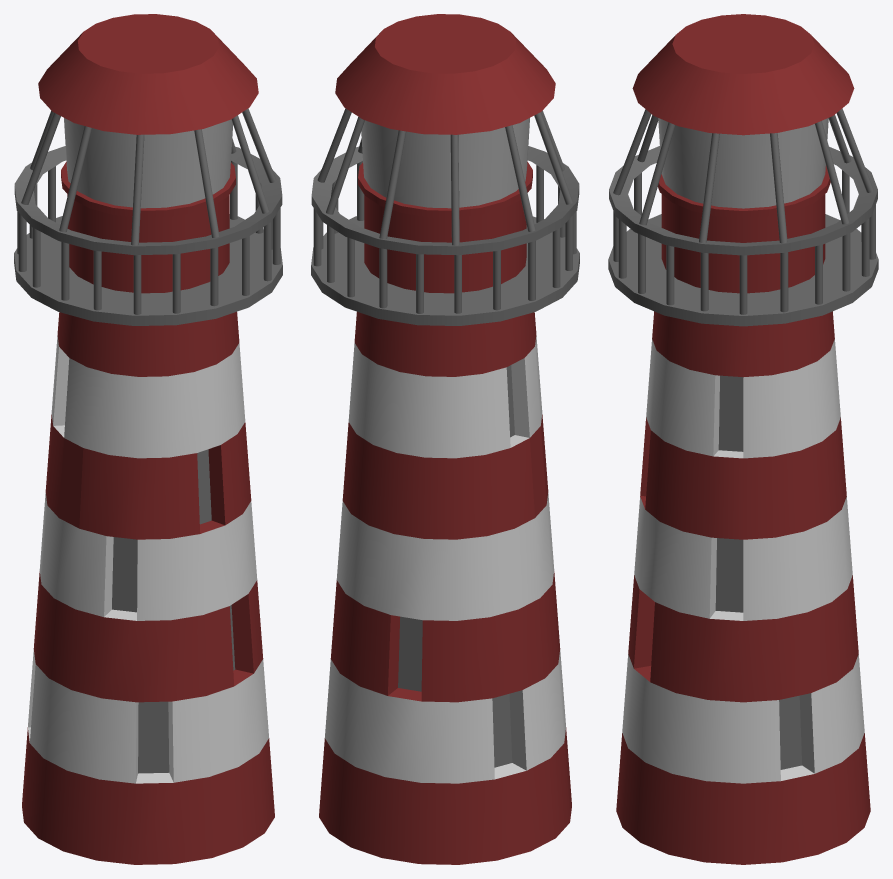
The model's file is Lighthouse.fbx.
3 views of the same model, side by side, from view 1: azimuth 30°, elevation 25°; view 2: azimuth 150°, elevation 25°; view 3: azimuth 270°, elevation 25° (orthographic).
Visible parts, largest first — view 1: pCylinder3; view 2: pCylinder3; view 3: pCylinder3.
Part boxes in pixels (left/top/right/bottom): pCylinder3: left=14, top=14, right=282, bottom=864; pCylinder3: left=311, top=14, right=579, bottom=864; pCylinder3: left=608, top=14, right=878, bottom=864.
Size of the model in its own units: 10.4 by 32.6 by 10.4.
